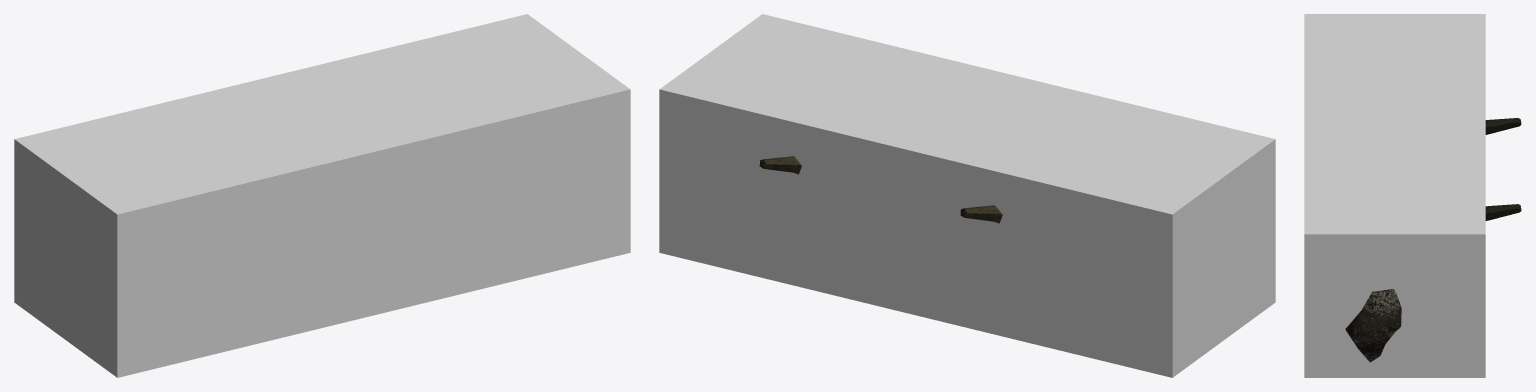
Rendered from hollow_log_closed.glb.
The picture shows the model from 3 angles, left to right: view 1: azimuth 30°, elevation 25°; view 2: azimuth 150°, elevation 25°; view 3: azimuth 270°, elevation 25°; orthographic projection. The views are drawn at different scales.
Parts seen in each view (by area): view 1: col_click; view 2: col_click, hollow_log_closed; view 3: col_click, hollow_log_closed.
Part boxes in pixels (x1,y1,x2,y2): col_click: (14,14,630,377); col_click: (659,14,1275,377); hollow_log_closed: (759,156,1002,223); col_click: (1304,14,1485,377); hollow_log_closed: (1345,118,1521,362).
Size of the model in its own units: 2.41 by 0.7211 by 0.9581.
5 materials, 4 textured.
